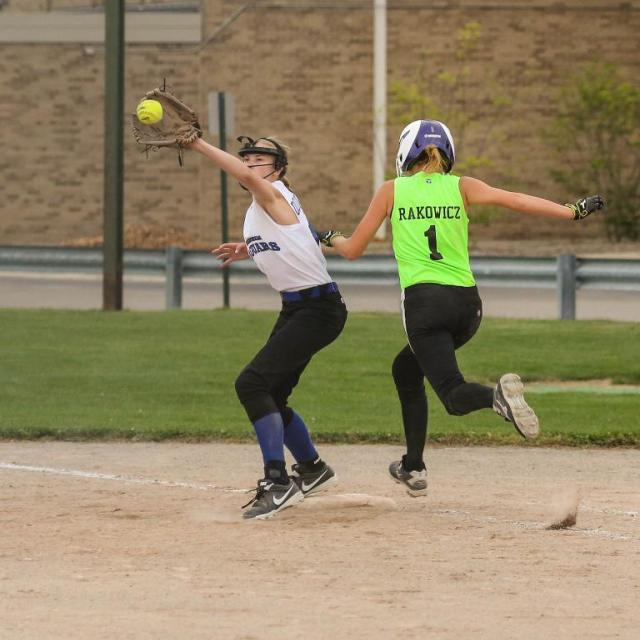Tennis ball: (137, 101, 163, 123)
